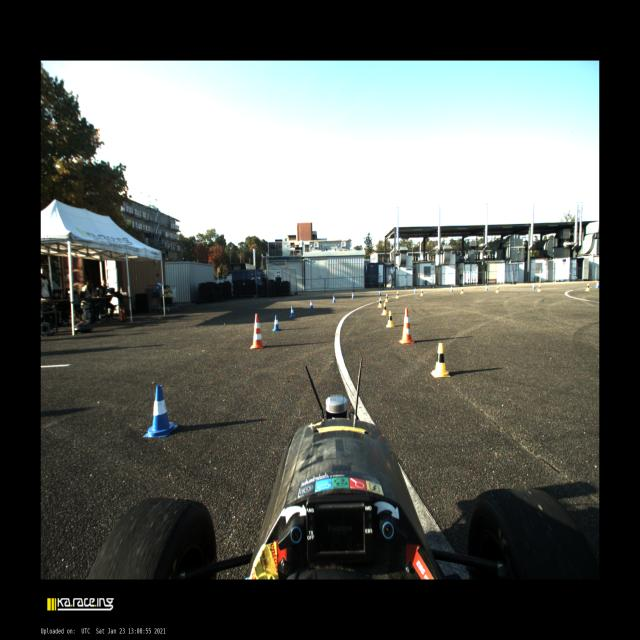blue_cone: (145, 386, 177, 436), (272, 314, 281, 331), (289, 306, 295, 318), (309, 300, 314, 310), (595, 281, 599, 289), (332, 296, 336, 302), (351, 292, 354, 299), (532, 283, 535, 289), (485, 285, 488, 291), (379, 290, 382, 296), (450, 286, 452, 292), (414, 288, 416, 294), (352, 293, 354, 298)
large_orange_cone: (399, 307, 414, 344), (250, 313, 264, 349)
yellow_cone: (431, 343, 450, 377), (386, 310, 394, 327), (382, 304, 388, 315), (584, 282, 590, 292), (537, 283, 541, 293), (385, 292, 389, 302), (378, 298, 382, 307), (495, 286, 499, 294), (395, 290, 399, 298), (460, 287, 464, 294), (420, 290, 423, 296)
